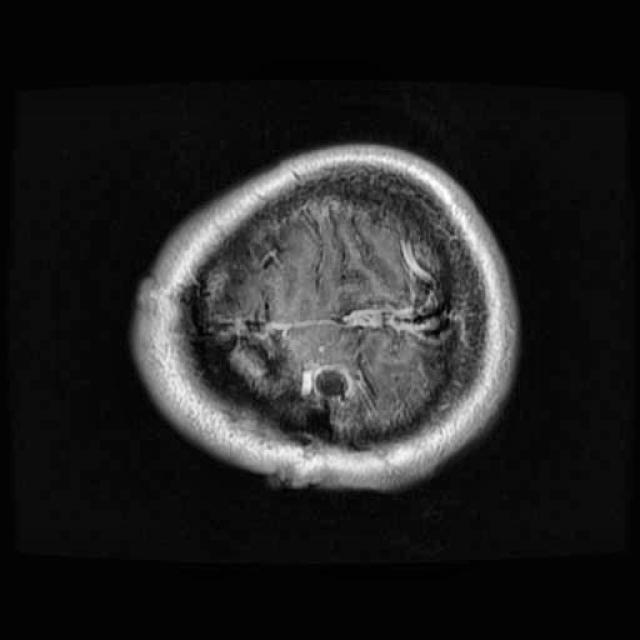Tumor: (172, 310, 356, 446)
